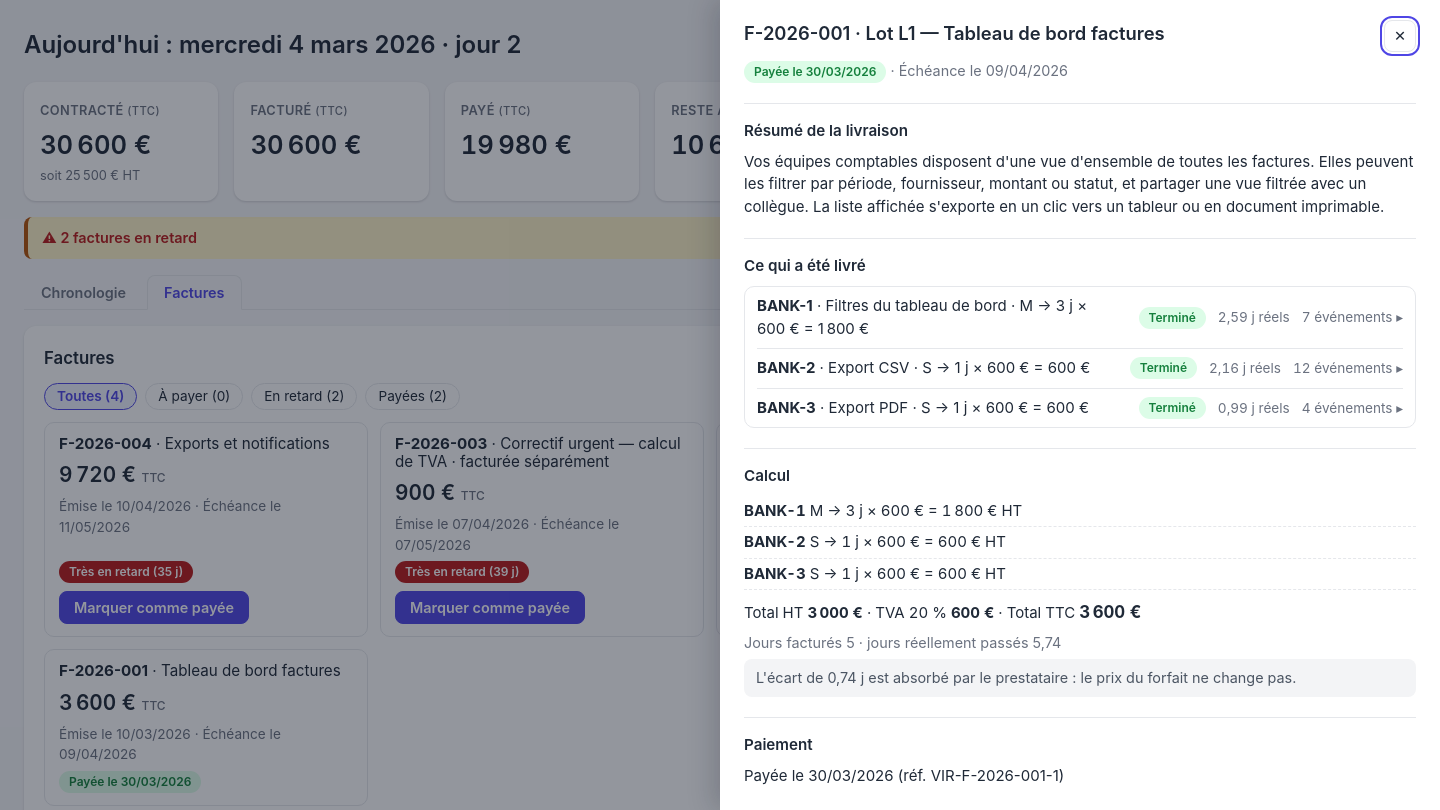
Scenario: ClientPage › the invoice drawer › history › closes in place a drawer opened by the URL it was loaded with
The width and height of the screenshot is (1440, 810).
Step 1. Click the button named "Fermer" → click(1400, 36), box [1384,20,1416,52]
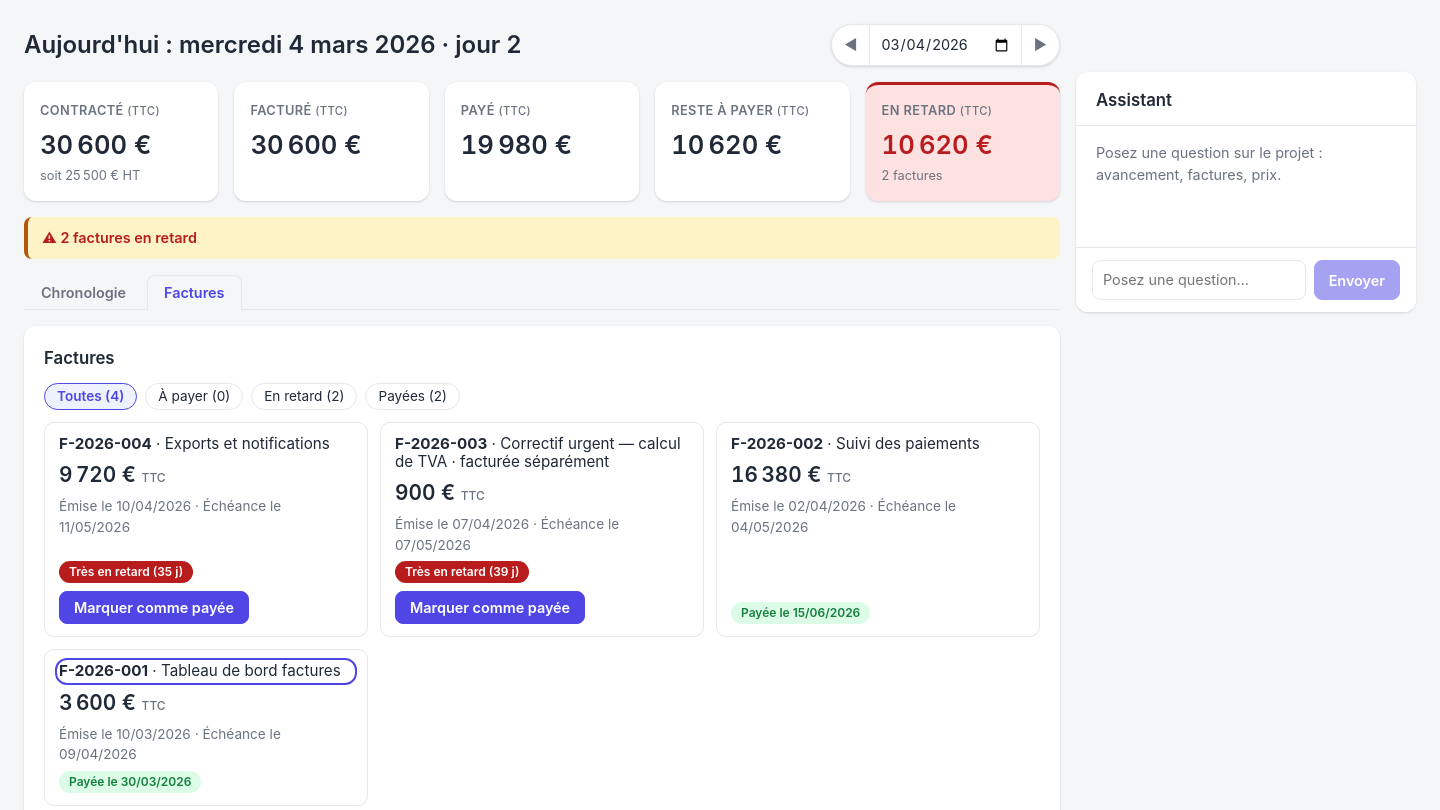
Check: the dialog is gone
